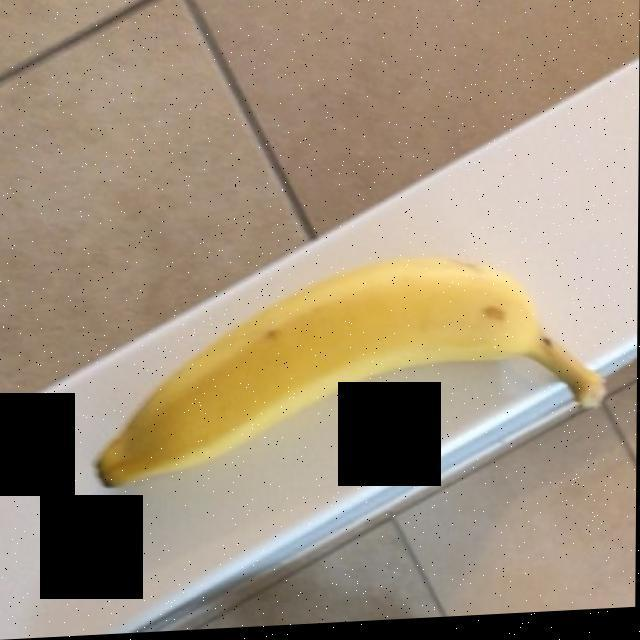banana: (99, 264, 567, 488)
